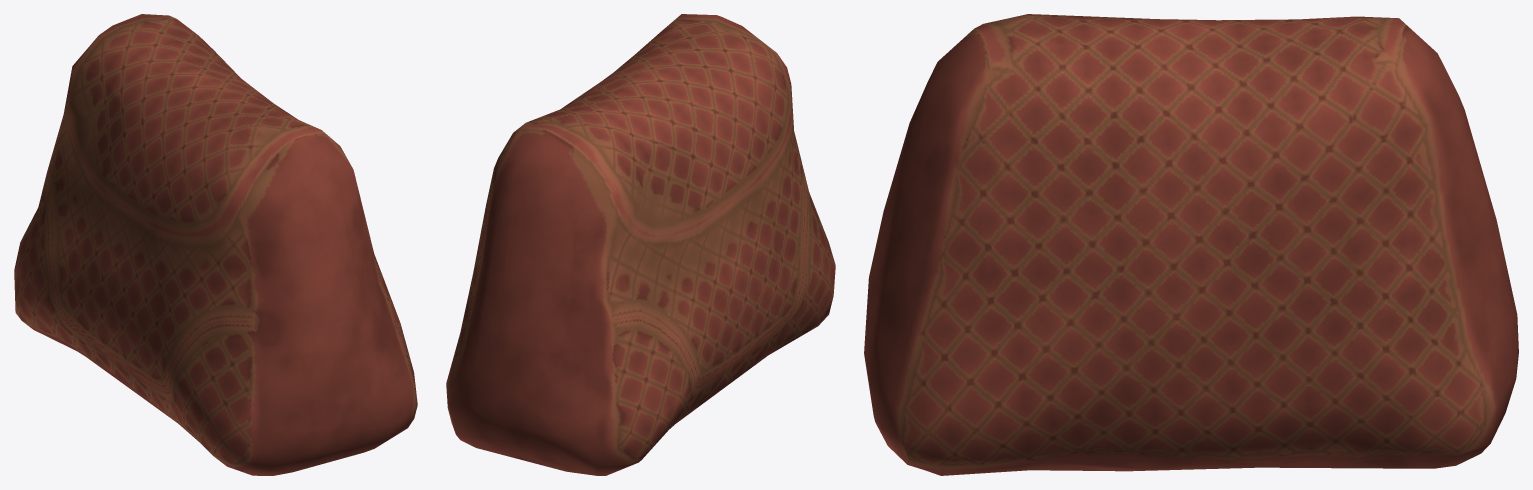
File: SM_Bag_B1.fbx
The picture shows the model from 3 angles, left to right: view 1: azimuth 30°, elevation 25°; view 2: azimuth 150°, elevation 25°; view 3: azimuth 270°, elevation 25°; orthographic projection. The views are drawn at different scales.
Visible parts, largest first — view 1: SM_Bag_B1; view 2: SM_Bag_B1; view 3: SM_Bag_B1.
Boxes of the visible parts, bbox=[...] form: SM_Bag_B1: bbox=[14, 14, 417, 475]; SM_Bag_B1: bbox=[446, 14, 835, 475]; SM_Bag_B1: bbox=[864, 14, 1518, 475].
Size of the model in its own units: 15.54 by 31.14 by 21.94.
Materials: 1 (1 with a texture image).
